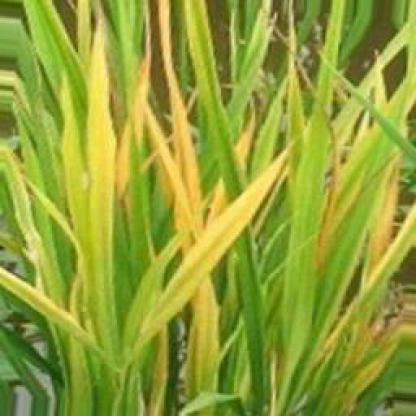Tungro: (119, 133, 300, 351), (140, 1, 234, 392), (75, 13, 122, 408), (342, 133, 414, 315), (297, 138, 356, 273), (2, 266, 66, 317)
